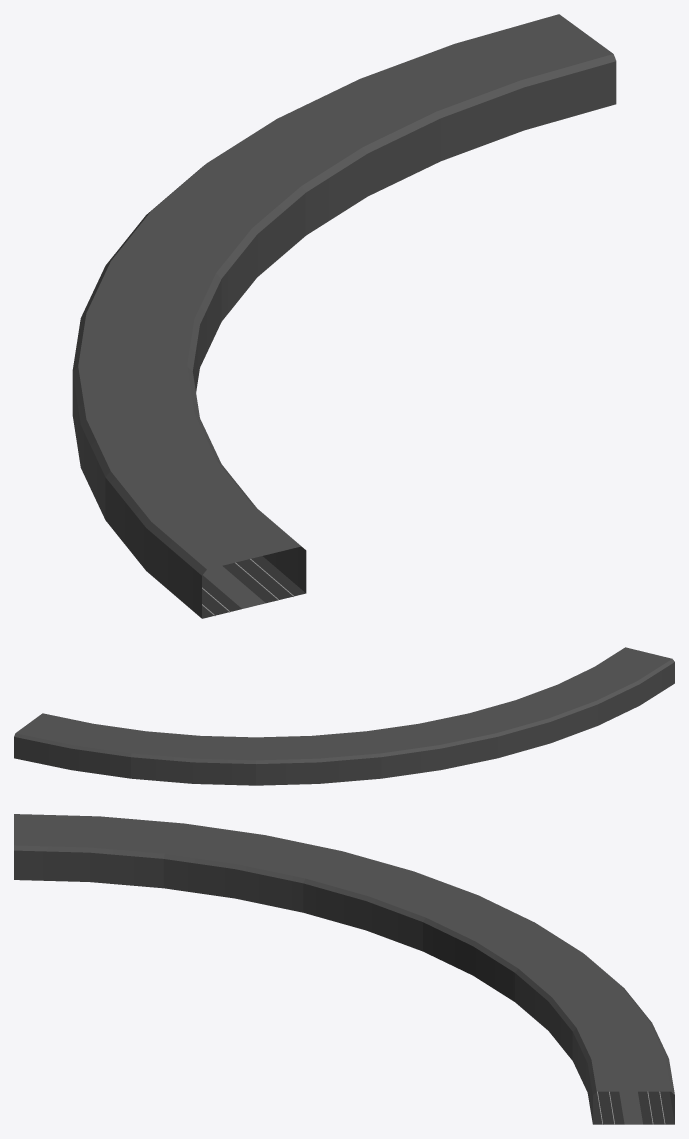
File: SM_Floor_Metro_12.fbx
3 views of the same model, one above another, from view 1: azimuth 30°, elevation 25°; view 2: azimuth 150°, elevation 25°; view 3: azimuth 270°, elevation 25° (orthographic). The views are drawn at different scales.
Parts seen in each view (by area): view 1: SM_Floor_Metro_12; view 2: SM_Floor_Metro_12; view 3: SM_Floor_Metro_12.
Boxes of the visible parts, x1,y1,x2,y2 form: SM_Floor_Metro_12: (72, 14, 616, 618); SM_Floor_Metro_12: (14, 647, 674, 785); SM_Floor_Metro_12: (14, 814, 674, 1124).
Size of the model in its own units: 85.3 by 4.74 by 85.3.
